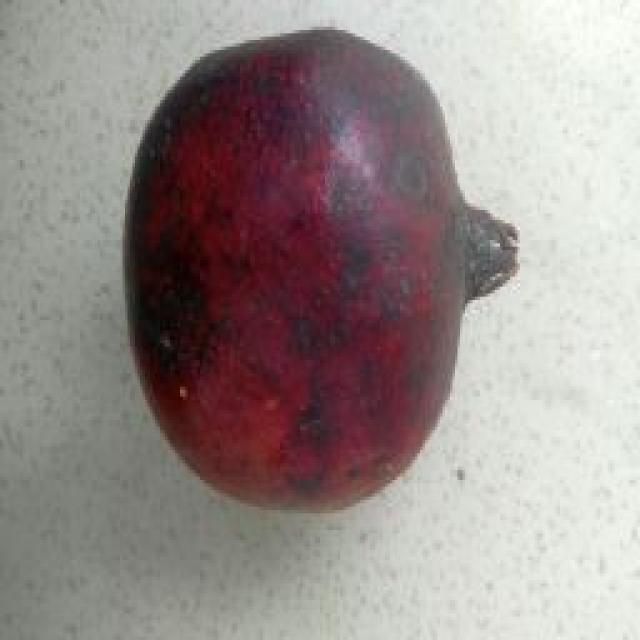overripe: (118, 19, 525, 518)
